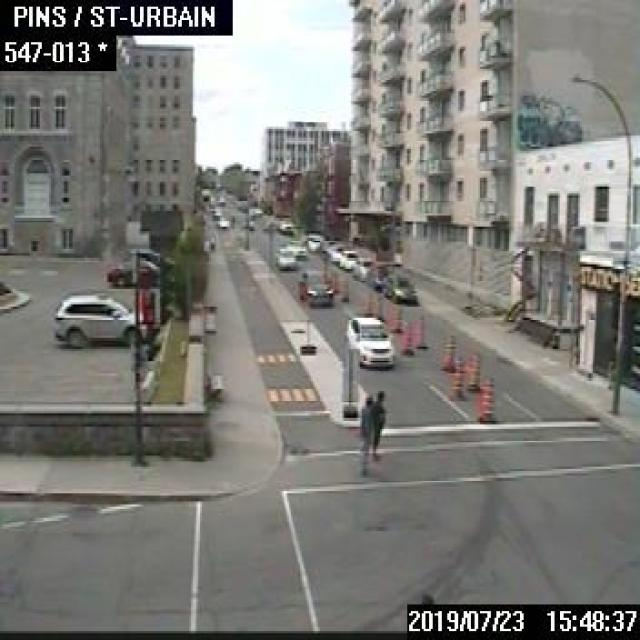construction: (476, 373, 496, 422), (446, 355, 464, 397), (465, 349, 480, 390), (439, 333, 454, 370), (385, 304, 400, 334), (414, 312, 426, 347), (402, 320, 412, 354), (364, 289, 376, 313), (340, 276, 349, 298)
pedestrian: (358, 393, 372, 462), (372, 388, 385, 457)
vehicle: (53, 292, 146, 344), (343, 311, 392, 367), (106, 256, 171, 285), (294, 266, 334, 306), (129, 245, 173, 269), (384, 271, 416, 302), (364, 264, 392, 290), (351, 256, 375, 280), (274, 247, 296, 270), (336, 248, 358, 269), (326, 243, 345, 262), (286, 238, 305, 256), (306, 234, 324, 251), (318, 238, 335, 255), (276, 217, 292, 233), (216, 216, 228, 227)
